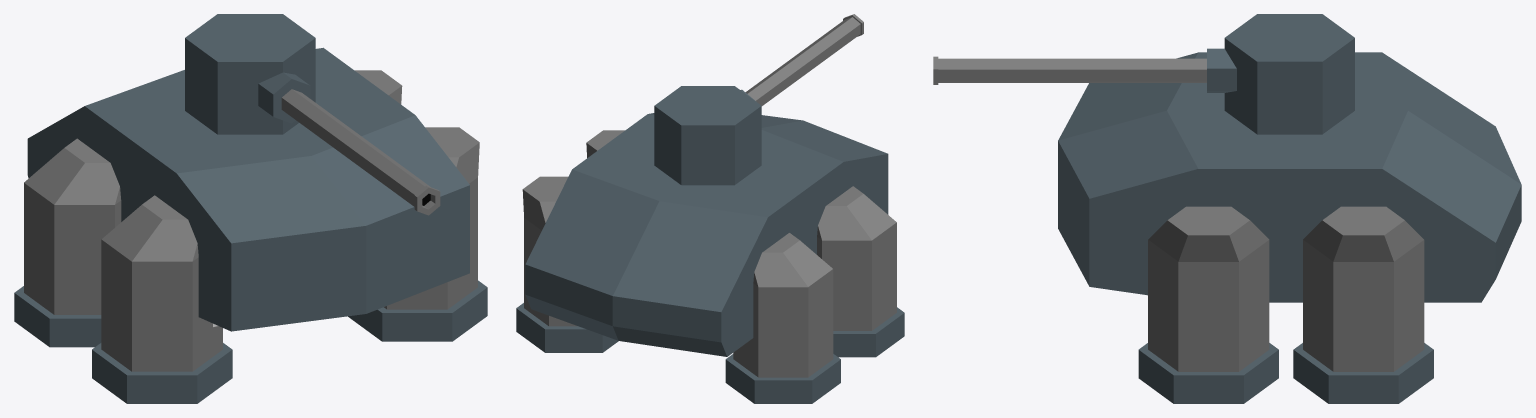
Rendered from boucy_tank_02.fbx.
The picture shows the model from 3 angles, left to right: view 1: azimuth 30°, elevation 25°; view 2: azimuth 150°, elevation 25°; view 3: azimuth 270°, elevation 25°; orthographic projection. The views are drawn at different scales.
Parts seen in each view (by area): view 1: Cube, Cylinder.004, Cylinder.005, Cylinder, Cylinder.003, Cylinder.001, Cylinder.002; view 2: Cube, Cylinder.005, Cylinder.004, Cylinder, Cylinder.002, Cylinder.001, Cylinder.003; view 3: Cube, Cylinder.003, Cylinder.002, Cylinder, Cylinder.001.
Part boxes in pixels (box(x1,y1,x2,y2)): Cube: box(27, 47, 469, 331); Cylinder.004: box(92, 195, 232, 403); Cylinder.005: box(14, 138, 121, 347); Cylinder: box(185, 14, 315, 134); Cylinder.003: box(348, 127, 487, 341); Cylinder.001: box(258, 72, 440, 215); Cylinder.002: box(355, 70, 402, 104); Cube: box(525, 113, 888, 356); Cylinder.005: box(725, 233, 840, 403); Cylinder.004: box(817, 186, 904, 357); Cylinder: box(654, 86, 761, 185); Cylinder.002: box(516, 176, 618, 352); Cylinder.001: box(740, 14, 863, 105); Cylinder.003: box(586, 130, 624, 157); Cube: box(1058, 52, 1521, 302); Cylinder.003: box(1138, 206, 1278, 403); Cylinder.002: box(1293, 206, 1433, 403); Cylinder: box(1224, 14, 1354, 134); Cylinder.001: box(933, 48, 1236, 92).
Bounding box in the file's own units: 637 × 471 × 901.
